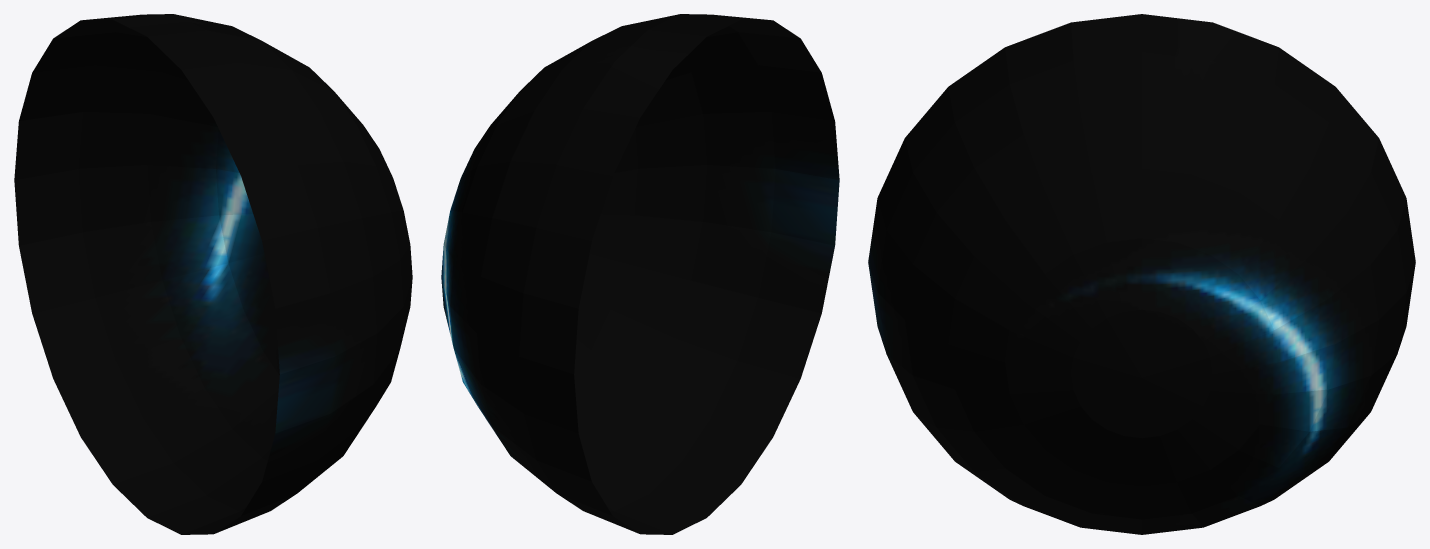
File: 0504_zhixiangxinjianshe.glb
3 views of the same model, side by side, from view 1: azimuth 30°, elevation 25°; view 2: azimuth 150°, elevation 25°; view 3: azimuth 270°, elevation 25° (orthographic). The views are drawn at different scales.
Size of the model in its own units: 1.1 by 2.2 by 2.2.
Materials: 1 (1 with a texture image).
